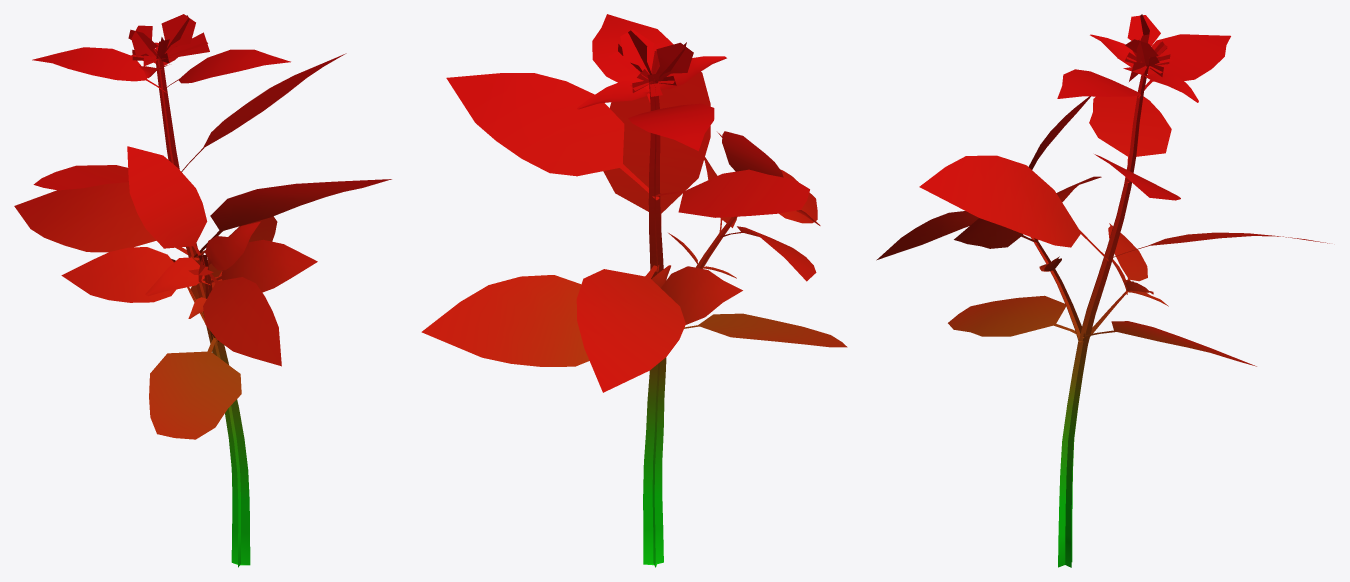
Rendered from Common Hemp Nettle_LOD3_Var2_xh1kdfbqx.fbx.
3 renders of one model, left to right at view 1: azimuth 30°, elevation 25°; view 2: azimuth 150°, elevation 25°; view 3: azimuth 270°, elevation 25°, orthographic. The views are drawn at different scales.
Parts seen in each view (by area): view 1: _bda0_Var2_LOD3; view 2: _bda0_Var2_LOD3; view 3: _bda0_Var2_LOD3.
Boxes of the visible parts, <box> form: _bda0_Var2_LOD3: <box>14,14,391,567</box>; _bda0_Var2_LOD3: <box>421,14,847,567</box>; _bda0_Var2_LOD3: <box>876,14,1329,567</box>.
Bounding box in the file's own units: 33.83 × 52.95 × 42.4.
